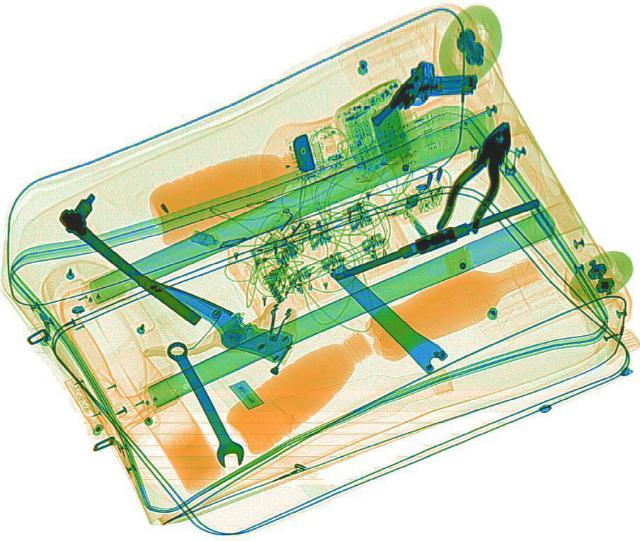Gun: (362, 49, 483, 150)
Pliers: (429, 116, 529, 239)
Wrench: (156, 338, 250, 471)
